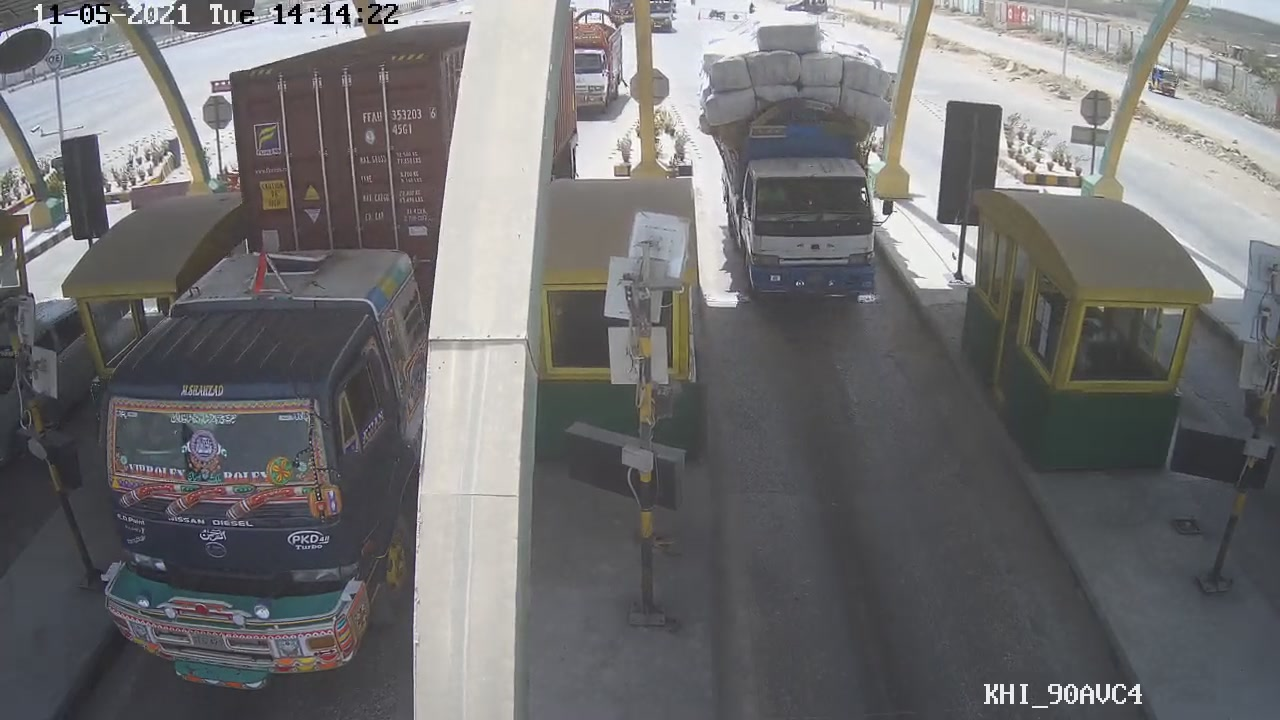F5: (713, 49, 897, 320)
